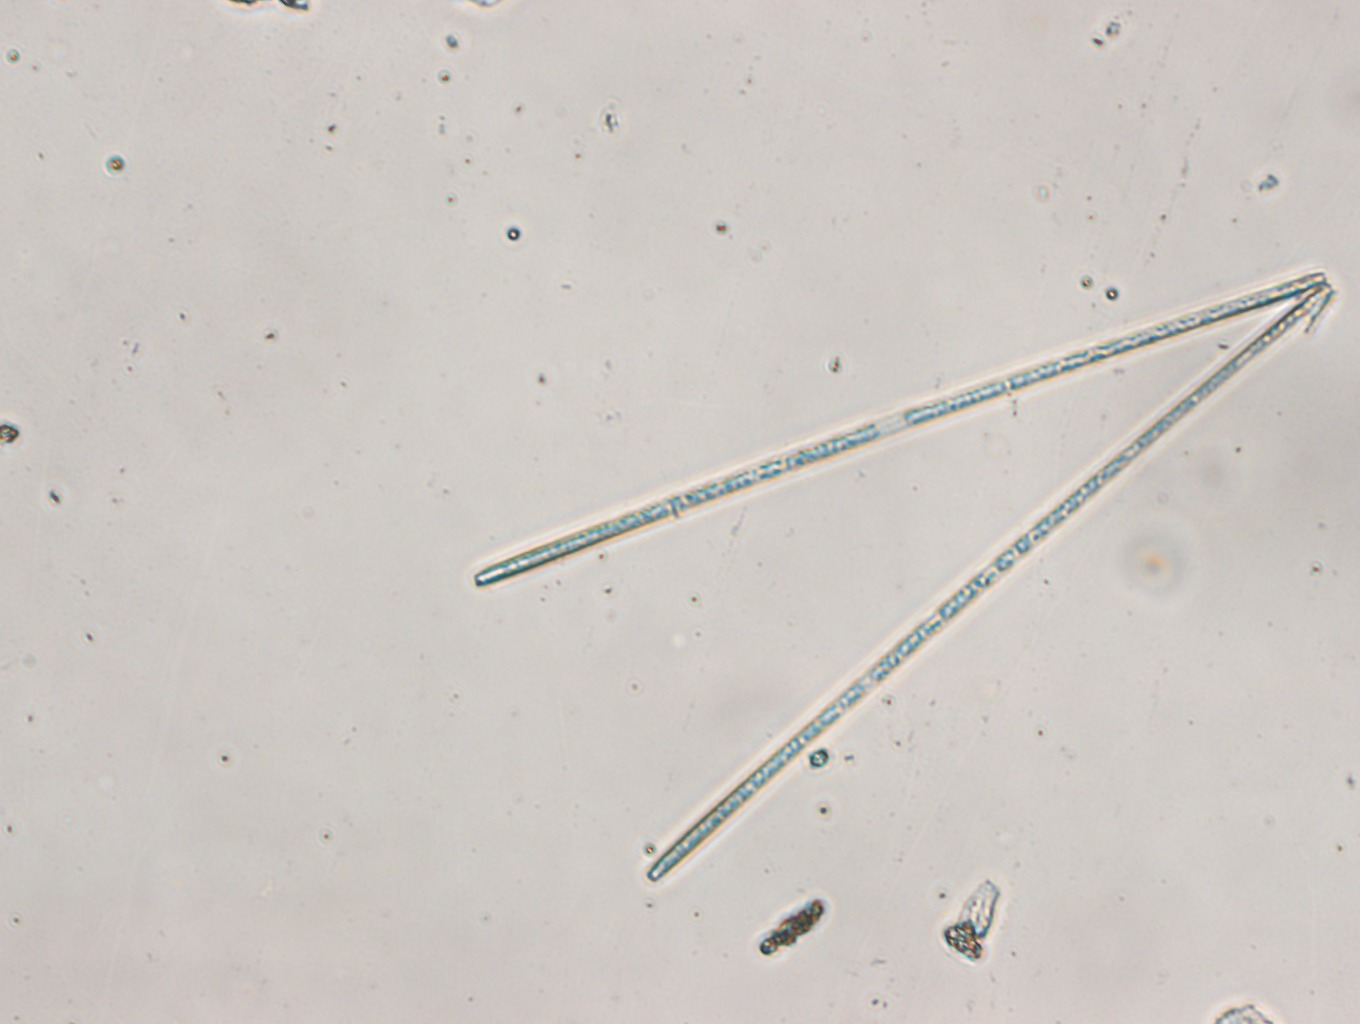thalassionema frauenfeldii: (469, 269, 1338, 884)
